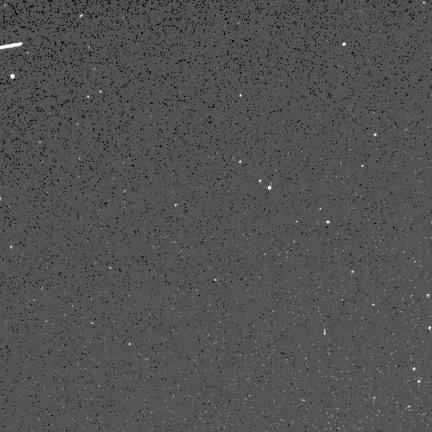blob: (428, 326, 432, 331), (343, 43, 347, 47), (239, 160, 243, 164), (11, 74, 14, 79), (259, 179, 262, 184), (175, 204, 179, 207), (268, 186, 271, 190), (327, 220, 330, 224), (427, 294, 430, 298), (214, 279, 217, 282), (418, 380, 421, 383), (413, 368, 416, 371), (362, 165, 365, 168), (240, 94, 242, 98)
